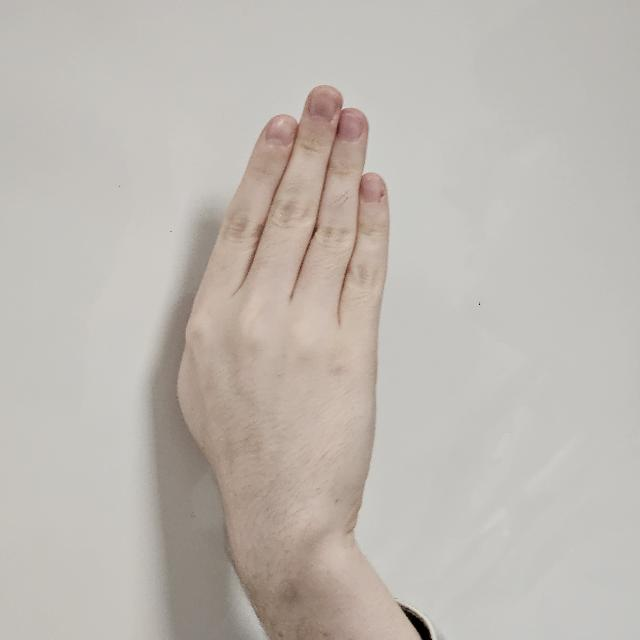Baixo: (172, 74, 406, 510)
